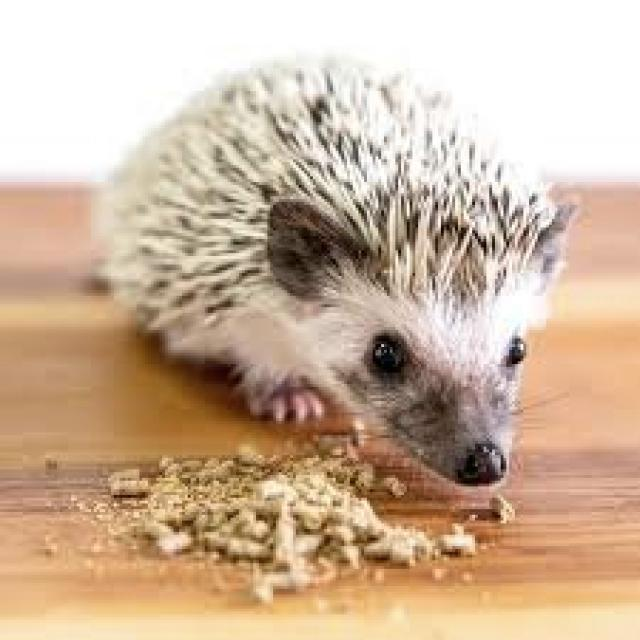hedgehog: (97, 57, 572, 484)
